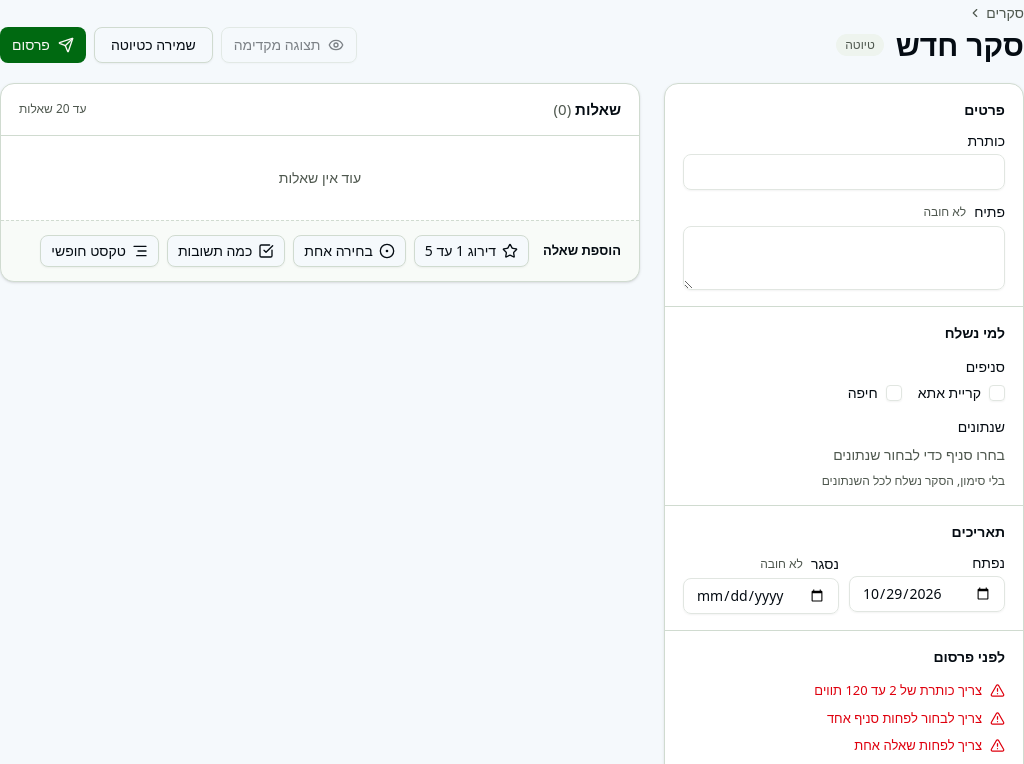
SurveyBuilder: options › a choice Question starts with two options and a rating with none
Click the button "בחירה אחת": (350, 250) [293, 234, 406, 266]
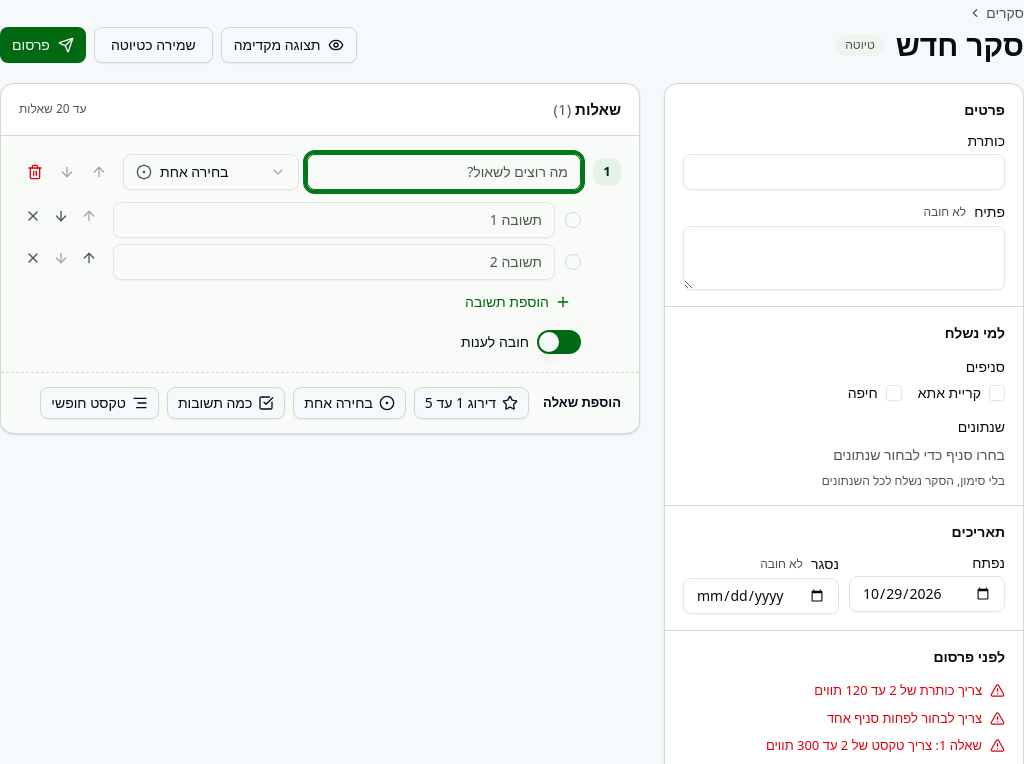
Click the button "דירוג 1 עד 5": (471, 402) [414, 386, 529, 418]
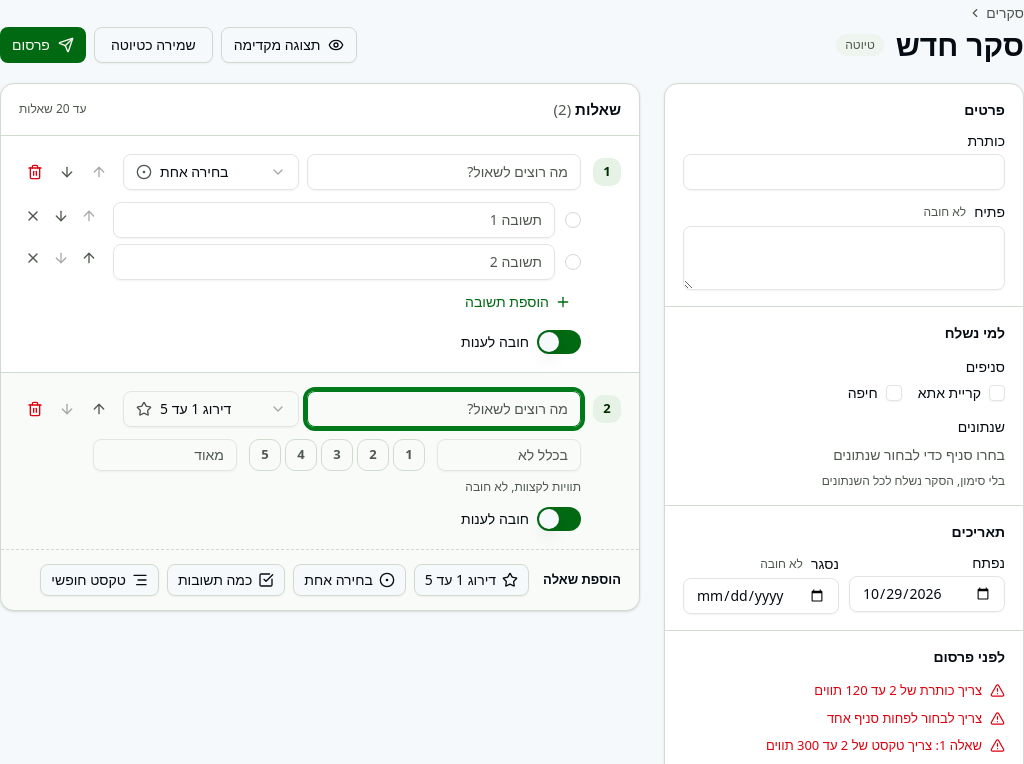
Expected: the number of fields labelled "תשובה 1" is 2, [113, 202, 555, 238]; [113, 244, 555, 280]
Result: the field named "תווית לדירוג 1 בשאלה 2" is shown at [437, 438, 581, 470]
